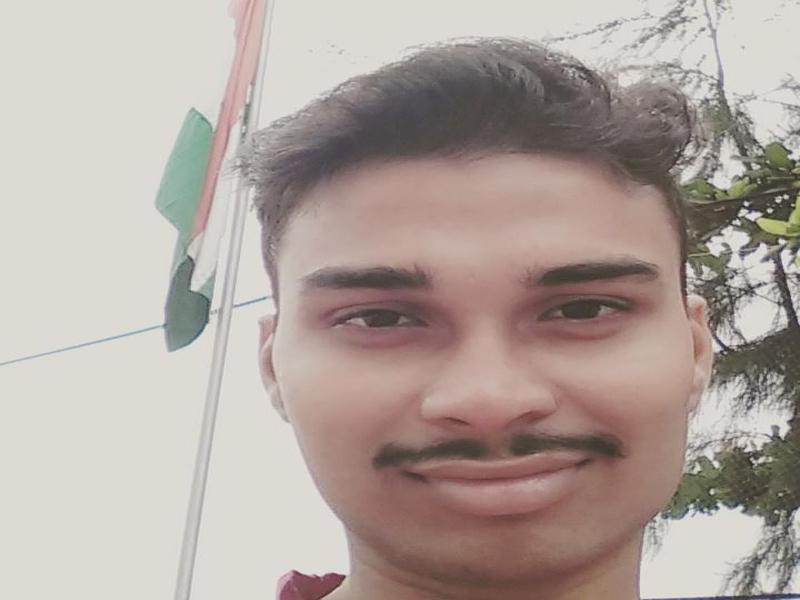without_mask: (278, 185, 682, 589)
